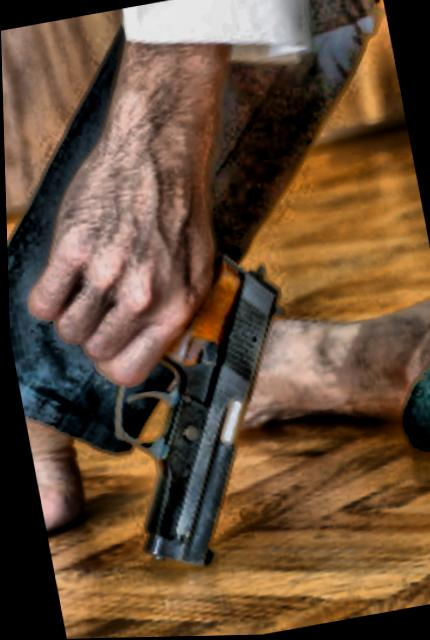pistol: (55, 240, 325, 581)
